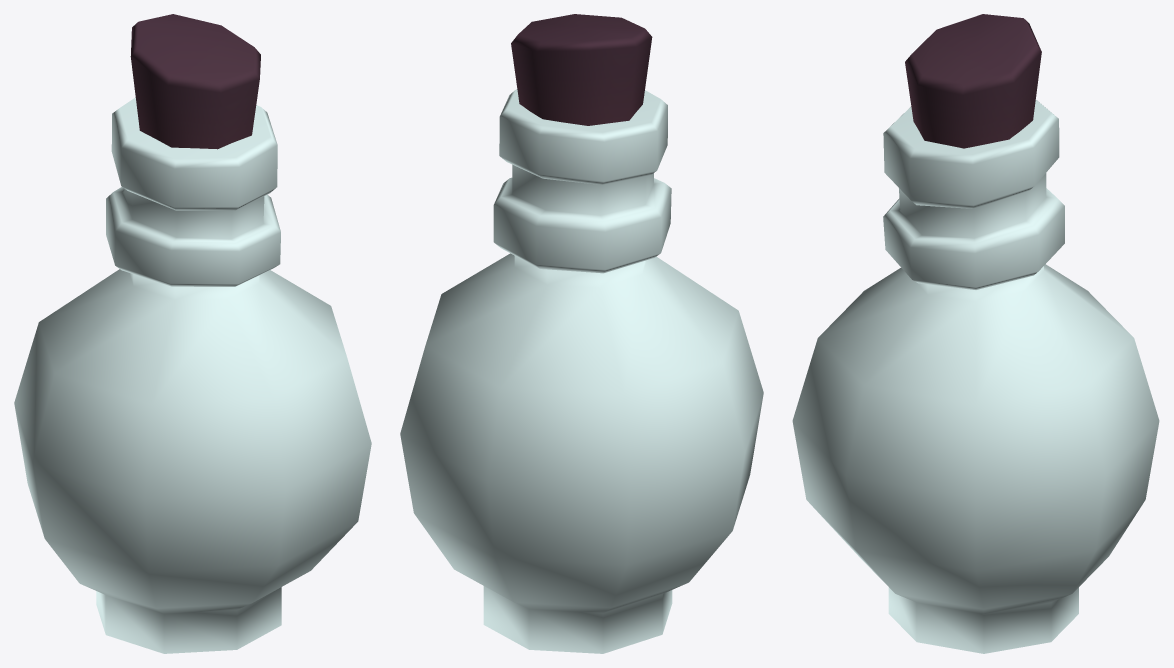
File: Magnetic_Shield.fbx
3 renders of one model, left to right at view 1: azimuth 30°, elevation 25°; view 2: azimuth 150°, elevation 25°; view 3: azimuth 270°, elevation 25°, orthographic. The views are drawn at different scales.
Parts seen in each view (by area): view 1: Magnetic_Shield; view 2: Magnetic_Shield; view 3: Magnetic_Shield.
Boxes of the visible parts, x1,y1,x2,y2 form: Magnetic_Shield: [14, 14, 371, 653]; Magnetic_Shield: [400, 14, 763, 653]; Magnetic_Shield: [792, 14, 1159, 653].
Bounding box in the file's own units: 28.07 × 28.07 × 49.02.
Materials: 1 (1 with a texture image).
